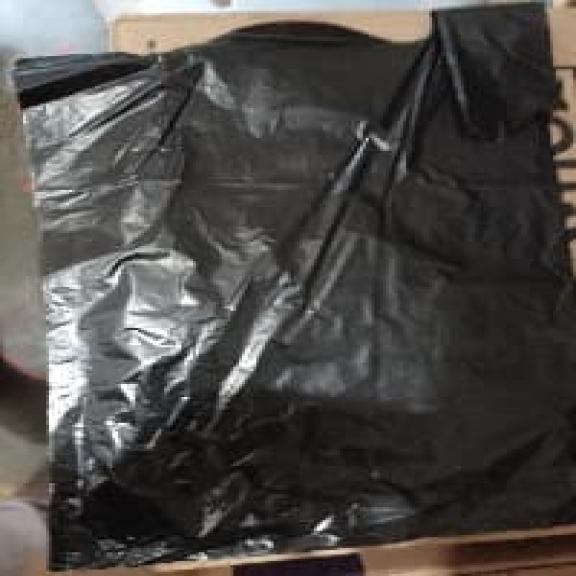Plastik: (21, 6, 574, 564)
